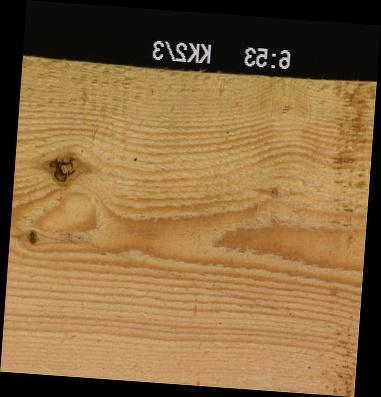dry_knot: (27, 228, 39, 244)
